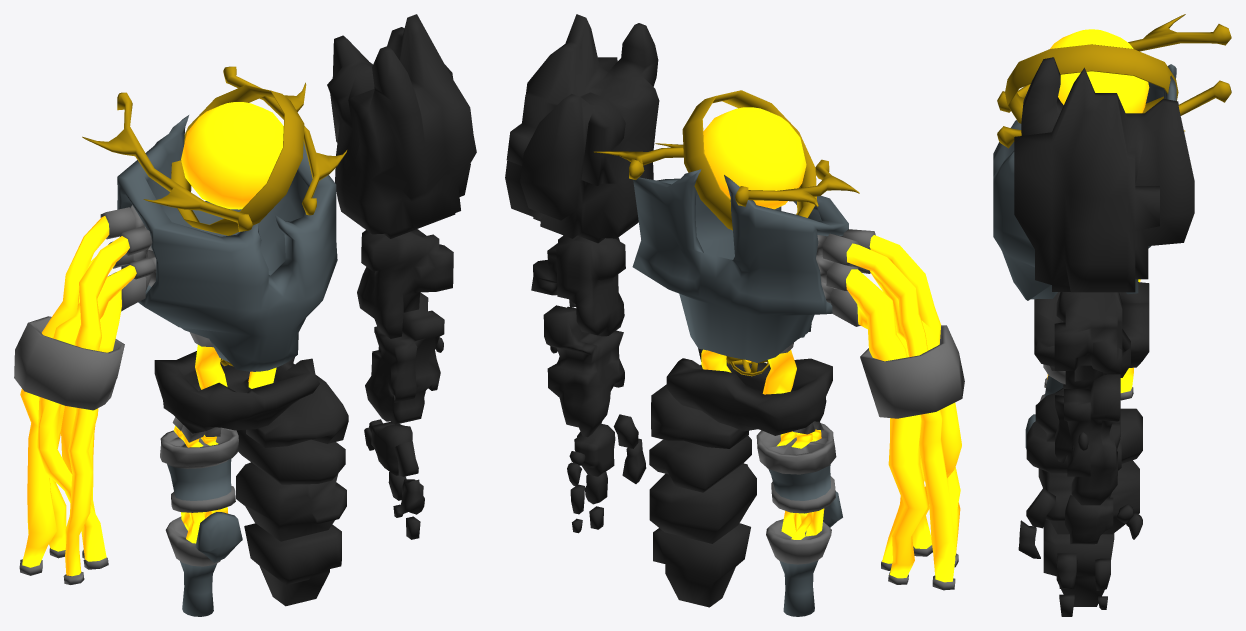
Rendered from SolarTitan.fbx.
3 views of the same model, side by side, from view 1: azimuth 30°, elevation 25°; view 2: azimuth 150°, elevation 25°; view 3: azimuth 270°, elevation 25° (orthographic). The views are drawn at different scales.
Parts seen in each view (by area): view 1: SolarTitan; view 2: SolarTitan; view 3: SolarTitan.
Boxes of the visible parts, bbox=[...] form: SolarTitan: bbox=[14, 14, 476, 616]; SolarTitan: bbox=[505, 14, 964, 616]; SolarTitan: bbox=[993, 14, 1231, 616].
Size of the model in its own units: 2039 by 2473 by 902.
1 material, 1 textured.
